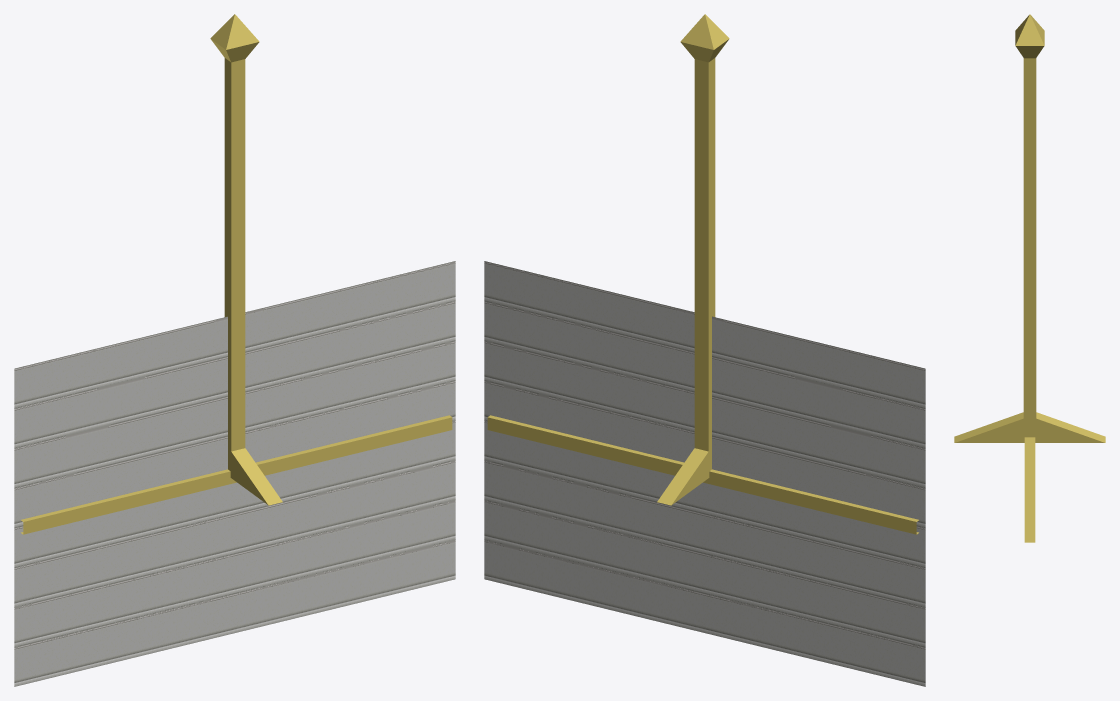
The model's file is 4448wall_r.gltf.
The picture shows the model from 3 angles, left to right: view 1: azimuth 30°, elevation 25°; view 2: azimuth 150°, elevation 25°; view 3: azimuth 270°, elevation 25°; orthographic projection. The views are drawn at different scales.
Parts seen in each view (by area): view 1: 4448wall_r; view 2: 4448wall_r; view 3: 4448wall_r.
Part boxes in pixels (<box>): 4448wall_r: <box>14,14,455,686</box>; 4448wall_r: <box>484,14,925,686</box>; 4448wall_r: <box>954,14,1105,542</box>.
Bounding box in the file's own units: 1.83 × 2.45 × 0.5869.
Materials: 2 (1 with a texture image).
